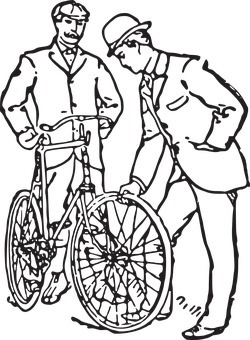bicycle: (1, 116, 172, 330)
person: (99, 10, 248, 336), (1, 1, 131, 308)
